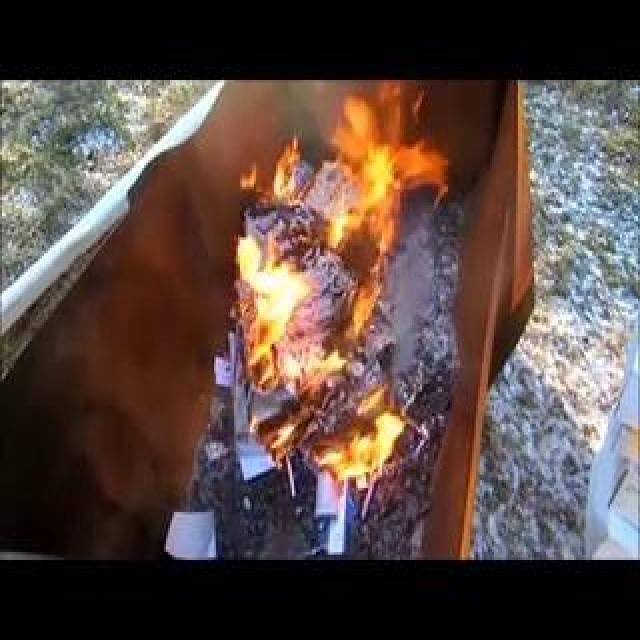Fire: (338, 103, 435, 239), (234, 242, 303, 368), (326, 408, 397, 482)
